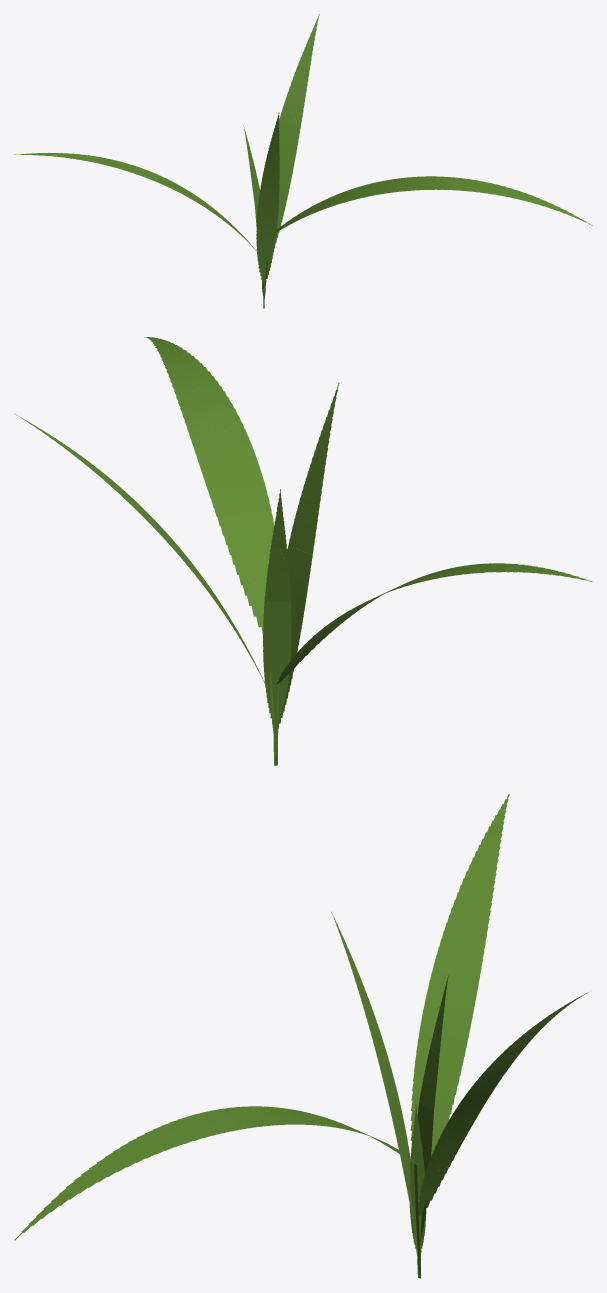
Rendered from maize_001_day_055.dae.
The picture shows the model from 3 angles, top to bottom: view 1: azimuth 30°, elevation 25°; view 2: azimuth 150°, elevation 25°; view 3: azimuth 270°, elevation 25°; orthographic projection. The views are drawn at different scales.
Parts seen in each view (by area): view 1: node; view 2: node; view 3: node.
Boxes of the visible parts, x1,y1,x2,y2 form: node: (14, 14, 592, 308); node: (14, 337, 592, 765); node: (14, 794, 591, 1278).
Size of the model in its own units: 0.5507 by 0.2818 by 0.395.
Materials: 1 (1 with a texture image).
